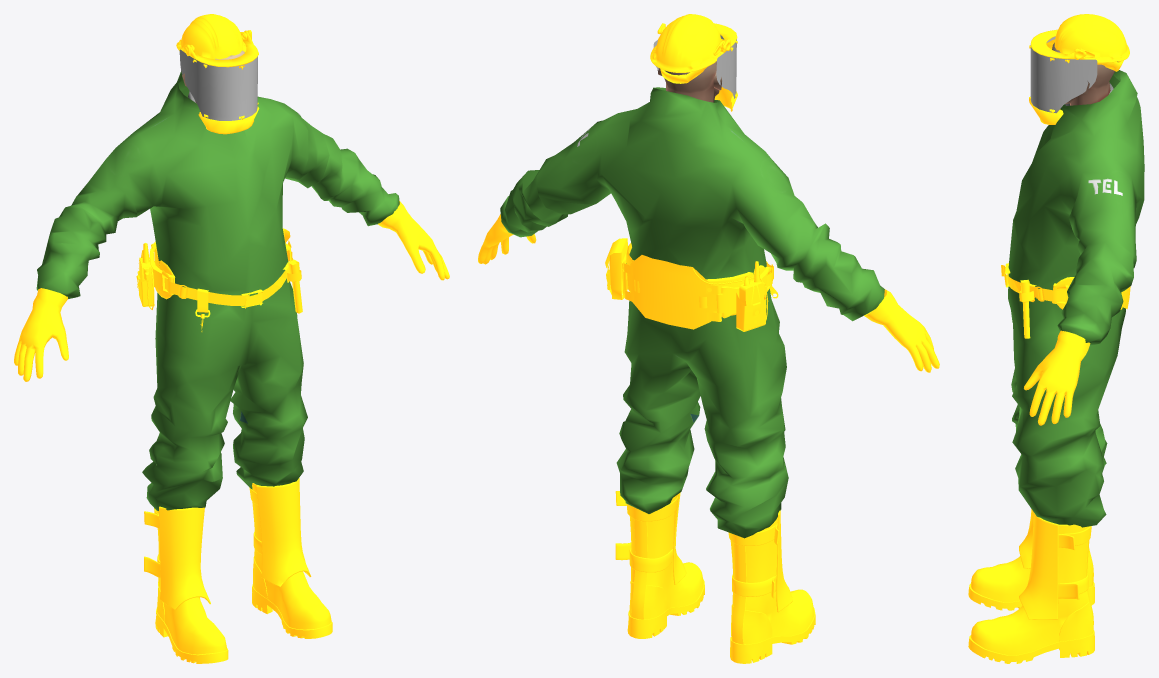
File: 03_Electrical_FSE.fbx
3 views of the same model, side by side, from view 1: azimuth 30°, elevation 25°; view 2: azimuth 150°, elevation 25°; view 3: azimuth 270°, elevation 25° (orthographic). The views are drawn at different scales.
Parts seen in each view (by area): view 1: Electrical_Suit, Electrical_Boots, Helm_mask_mesh, Electrical_Gloves, Electrical_Belt, Helmet_top_mesh; view 2: Electrical_Suit, Electrical_Boots, Electrical_Belt, Helmet_top_mesh, Electrical_Gloves, Helm_mask_mesh, Head; view 3: Electrical_Suit, Electrical_Boots, Helm_mask_mesh, Electrical_Gloves, Helmet_top_mesh, Electrical_Belt, Head.
Part boxes in pixels (left/top/right/bottom): Electrical_Suit: left=36, top=71, right=399, bottom=510; Electrical_Boots: left=144, top=478, right=332, bottom=663; Helm_mask_mesh: left=179, top=30, right=259, bottom=134; Electrical_Gloves: left=14, top=201, right=449, bottom=381; Electrical_Belt: left=136, top=228, right=302, bottom=331; Helmet_top_mesh: left=176, top=14, right=251, bottom=59; Electrical_Suit: left=500, top=87, right=884, bottom=538; Electrical_Boots: left=615, top=491, right=815, bottom=663; Electrical_Belt: left=605, top=238, right=778, bottom=331; Helmet_top_mesh: left=650, top=14, right=730, bottom=83; Electrical_Gloves: left=478, top=214, right=939, bottom=372; Helm_mask_mesh: left=653, top=23, right=737, bottom=111; Head: left=657, top=61, right=721, bottom=102; Electrical_Suit: left=1008, top=70, right=1144, bottom=527; Electrical_Boots: left=968, top=509, right=1094, bottom=663; Helm_mask_mesh: left=1029, top=29, right=1097, bottom=124; Electrical_Gloves: left=1024, top=330, right=1090, bottom=425; Helmet_top_mesh: left=1046, top=14, right=1129, bottom=71; Electrical_Belt: left=1001, top=263, right=1130, bottom=338; Head: left=1052, top=42, right=1117, bottom=105.
Bounding box in the file's own units: 151 × 202 × 52.79.
